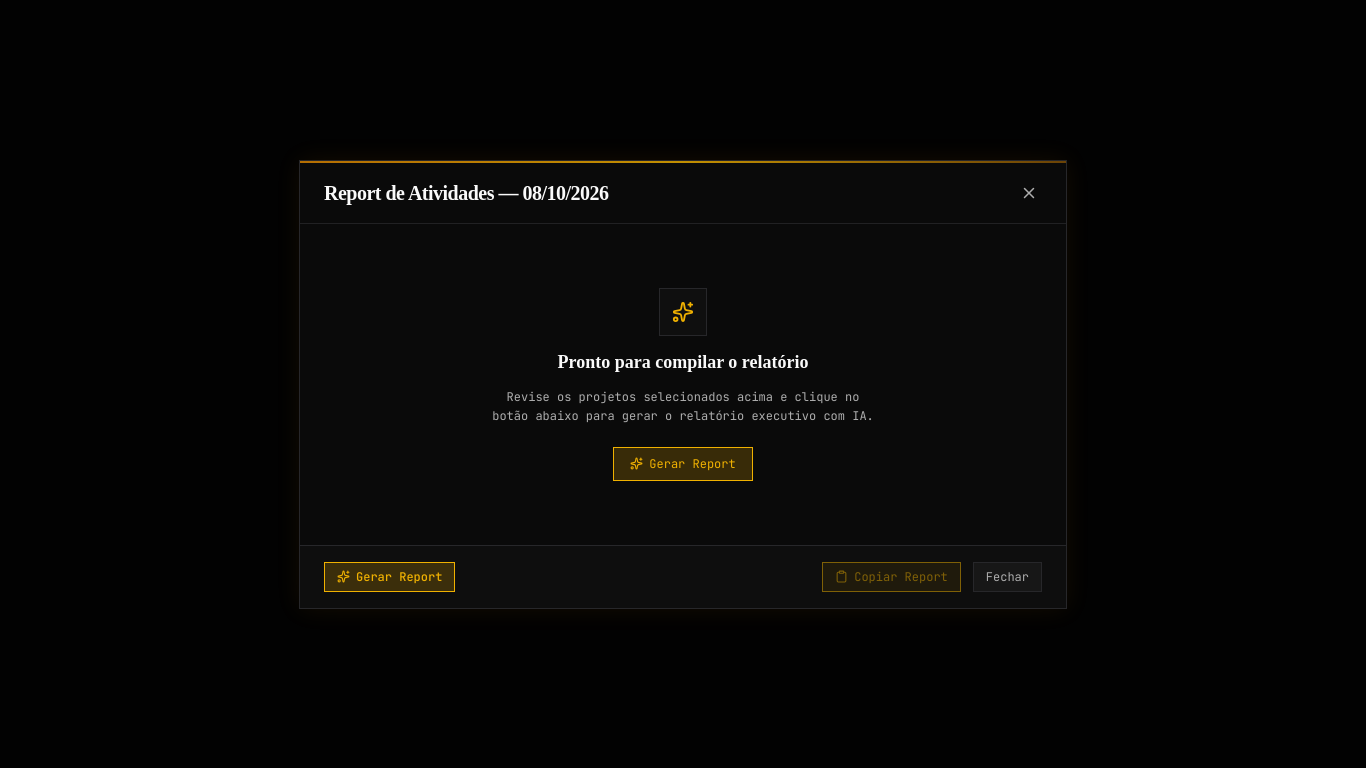
Test: DailyReportModal › renders single day heading in DD/MM/YYYY format and loads executive report on generate click
Expected: the dialog is shown, [299,160,1067,608]
Expected: the heading "Report de Atividades — 08/10/2026" is shown, [324,178,609,206]
Click "Gerar Report" to trigger compilation
What coordinates should you click on to do the following:
click the button "Gerar Report" below "Pronto para compilar o relatório"
I would click on:
 (683, 464)
Its box is [613,446,753,480].
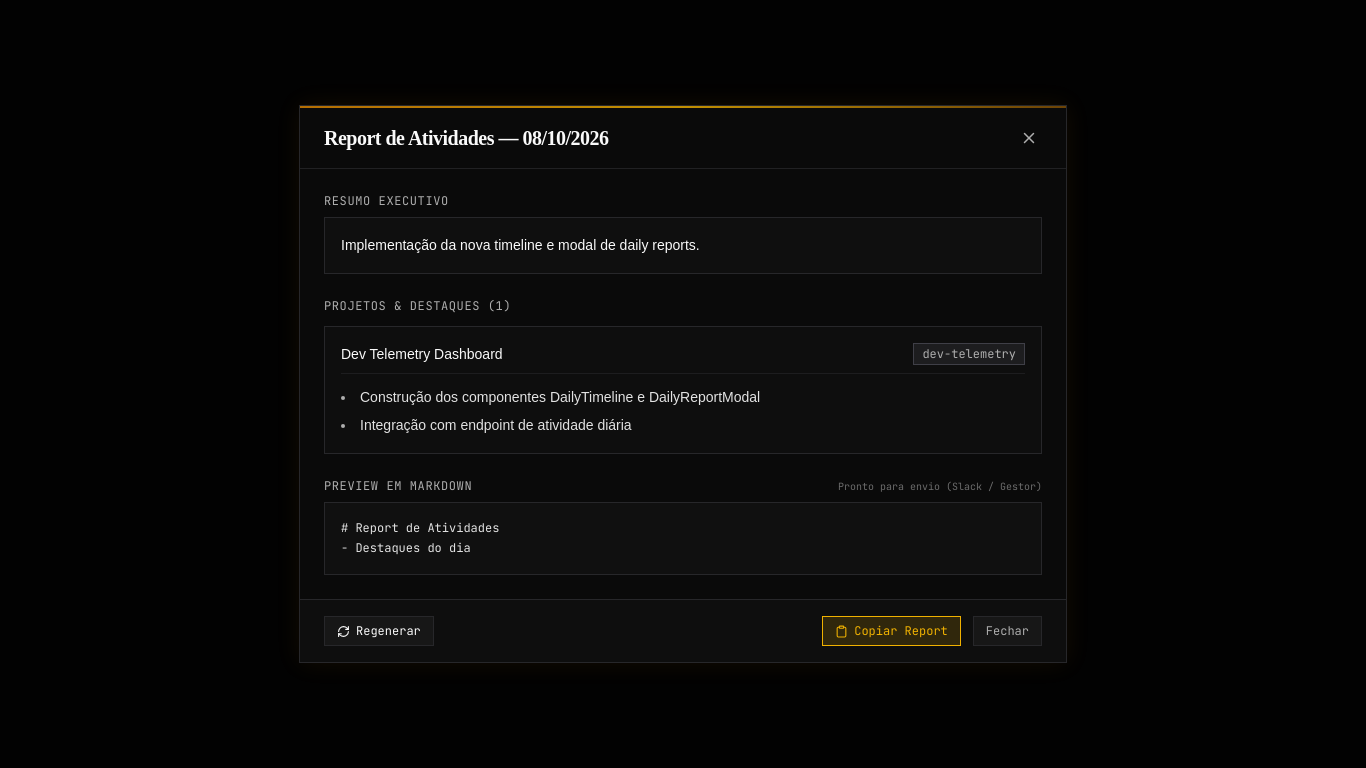
Result: the text "Implementação da nova timeline e modal de daily reports." is shown at [341,237,700,253]
Result: the text "Dev Telemetry Dashboard" is shown at [341,344,503,364]
Result: the text "dev-telemetry" is shown at [913,343,1025,365]
